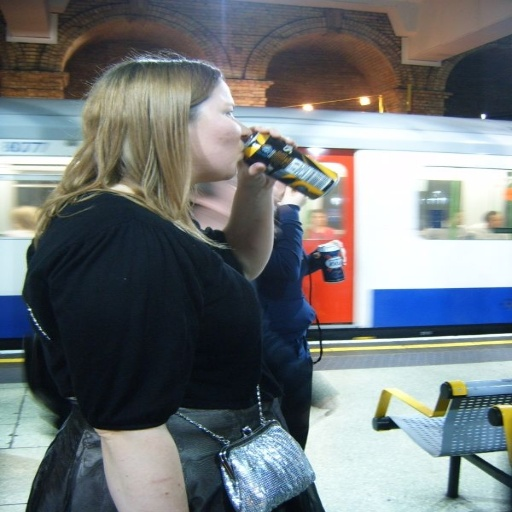hand: (233, 126, 294, 185), (312, 238, 346, 267), (276, 182, 308, 209)
